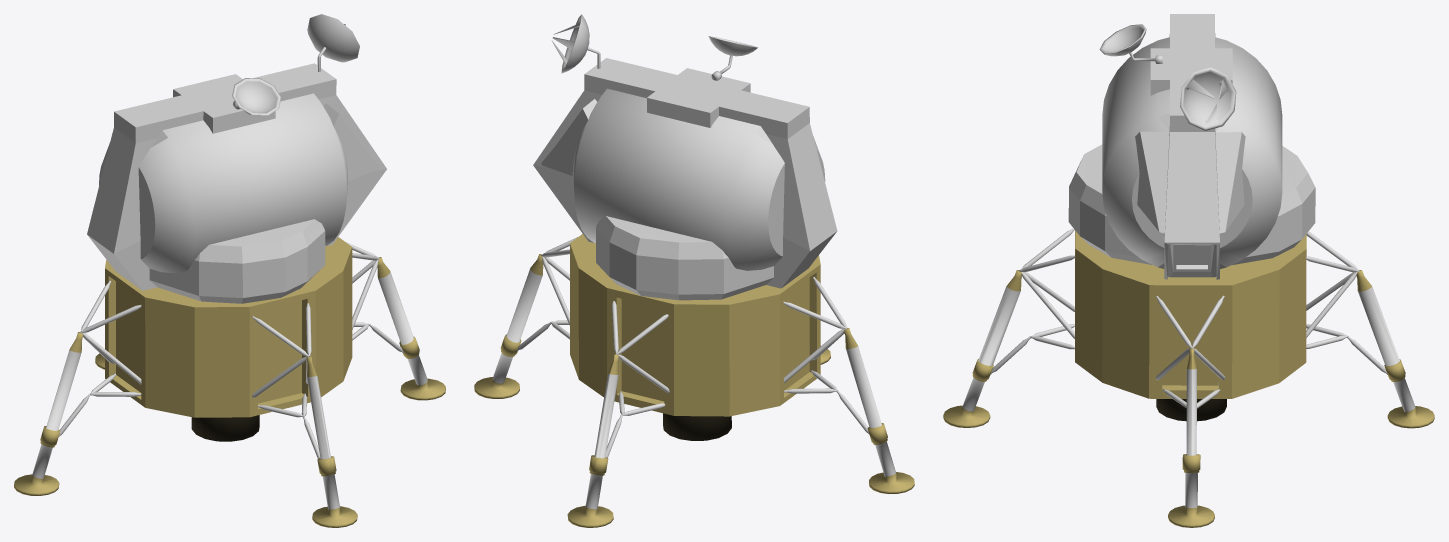
The model's file is eagle_animate.gltf.
3 views of the same model, side by side, from view 1: azimuth 30°, elevation 25°; view 2: azimuth 150°, elevation 25°; view 3: azimuth 270°, elevation 25° (orthographic). The views are drawn at different scales.
Parts seen in each view (by area): view 1: Sphere.001; view 2: Sphere.001; view 3: Sphere.001.
Part boxes in pixels (x1,y1,x2,y2): Sphere.001: (14, 14, 445, 527); Sphere.001: (474, 14, 914, 527); Sphere.001: (943, 14, 1434, 527).
Size of the model in its own units: 3.22 by 2.83 by 3.11.
